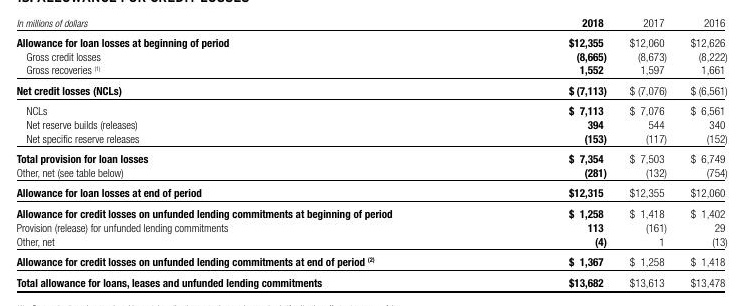table: (0, 0, 743, 306)
